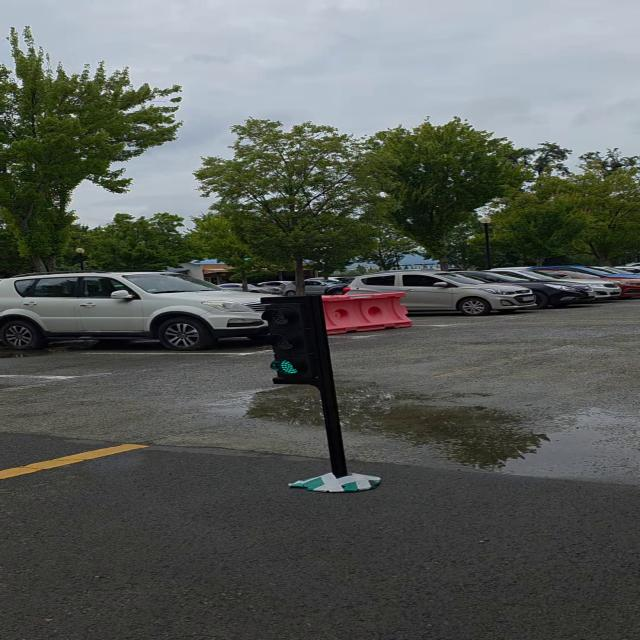green: (261, 300, 332, 386)
